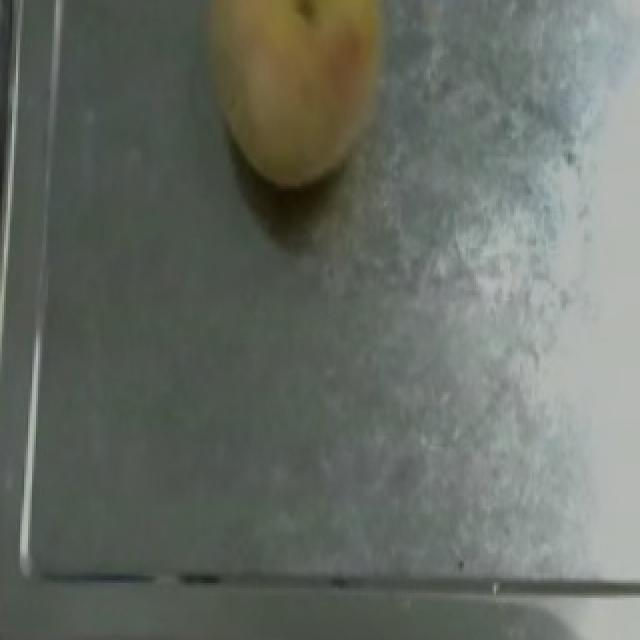Fruit: (186, 0, 426, 203)
